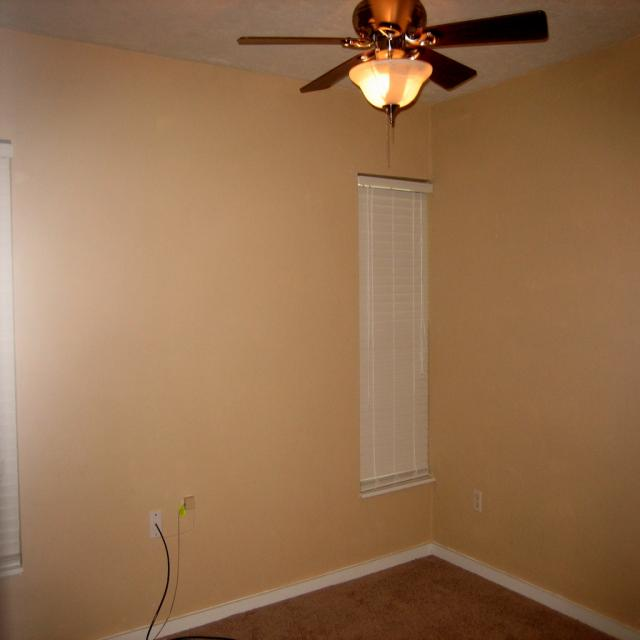Bulb: (237, 0, 549, 165)
